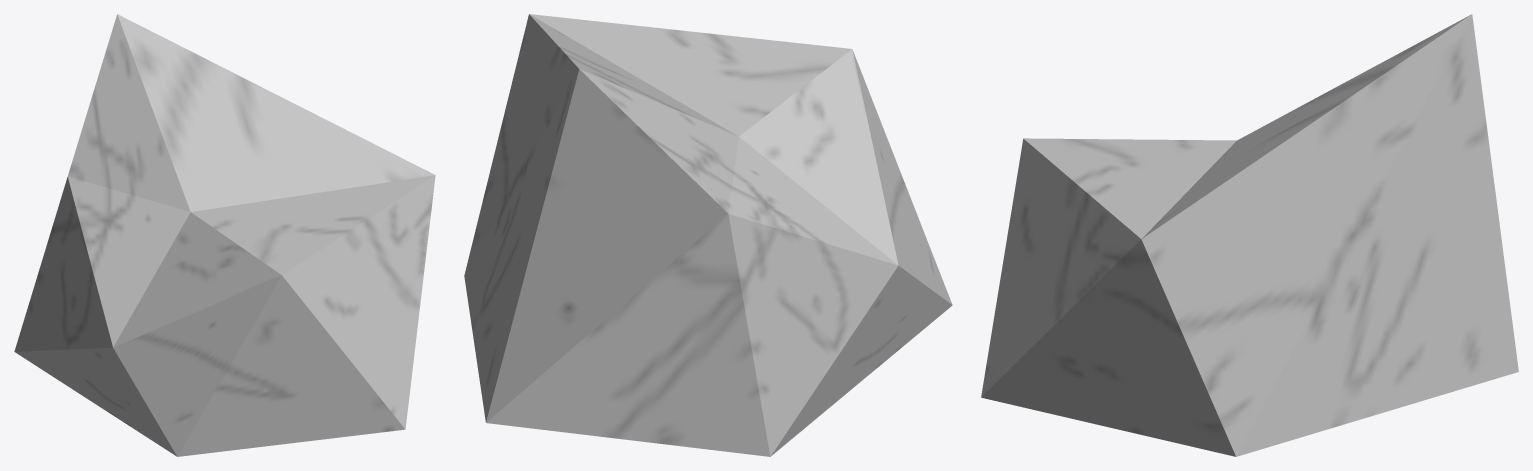
Rendered from rock_5.glb.
The picture shows the model from 3 angles, left to right: view 1: azimuth 30°, elevation 25°; view 2: azimuth 150°, elevation 25°; view 3: azimuth 270°, elevation 25°; orthographic projection. The views are drawn at different scales.
Visible parts, largest first — view 1: Icosphere.004; view 2: Icosphere.004; view 3: Icosphere.004.
Boxes of the visible parts, box(x1,y1,x2,y2) form: Icosphere.004: box(14, 14, 435, 456); Icosphere.004: box(464, 14, 952, 456); Icosphere.004: box(981, 14, 1518, 456).
Size of the model in its own units: 0.4402 by 0.3852 by 0.5461.
Materials: 1 (1 with a texture image).
